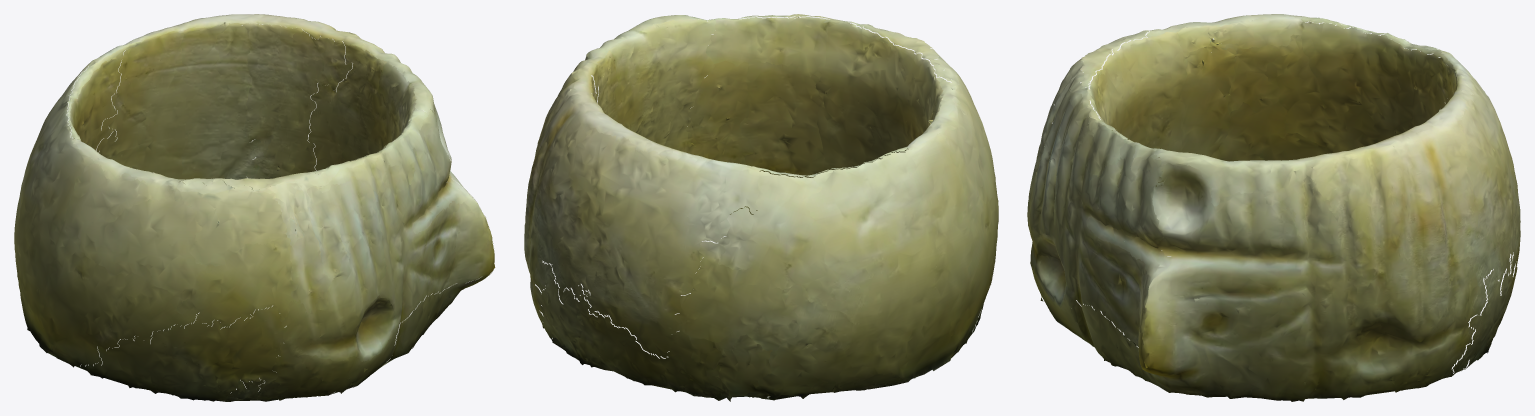
3 renders of one model, left to right at view 1: azimuth 30°, elevation 25°; view 2: azimuth 150°, elevation 25°; view 3: azimuth 270°, elevation 25°, orthographic. The views are drawn at different scales.
Parts seen in each view (by area): view 1: No borrar; view 2: No borrar; view 3: No borrar.
Boxes of the visible parts, <box> form: No borrar: <box>14,14,495,401</box>; No borrar: <box>524,14,998,401</box>; No borrar: <box>1027,14,1520,401</box>.
Size of the model in its own units: 0.1604 by 0.089 by 0.1638.
Materials: 2 (2 with a texture image).
